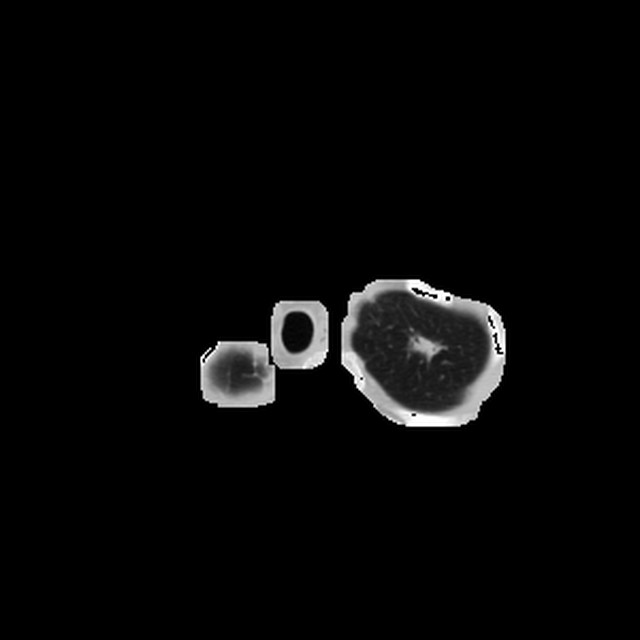PN: (412, 331, 442, 361)
